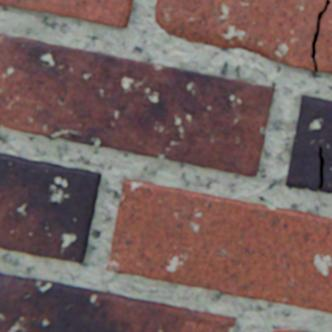brick: (0, 33, 274, 175), (107, 178, 331, 311), (0, 271, 236, 331), (155, 0, 325, 70), (0, 152, 102, 262), (285, 94, 331, 192), (0, 0, 133, 28), (315, 0, 331, 72), (270, 328, 315, 331)
crack: (311, 0, 329, 70), (317, 145, 324, 188)
